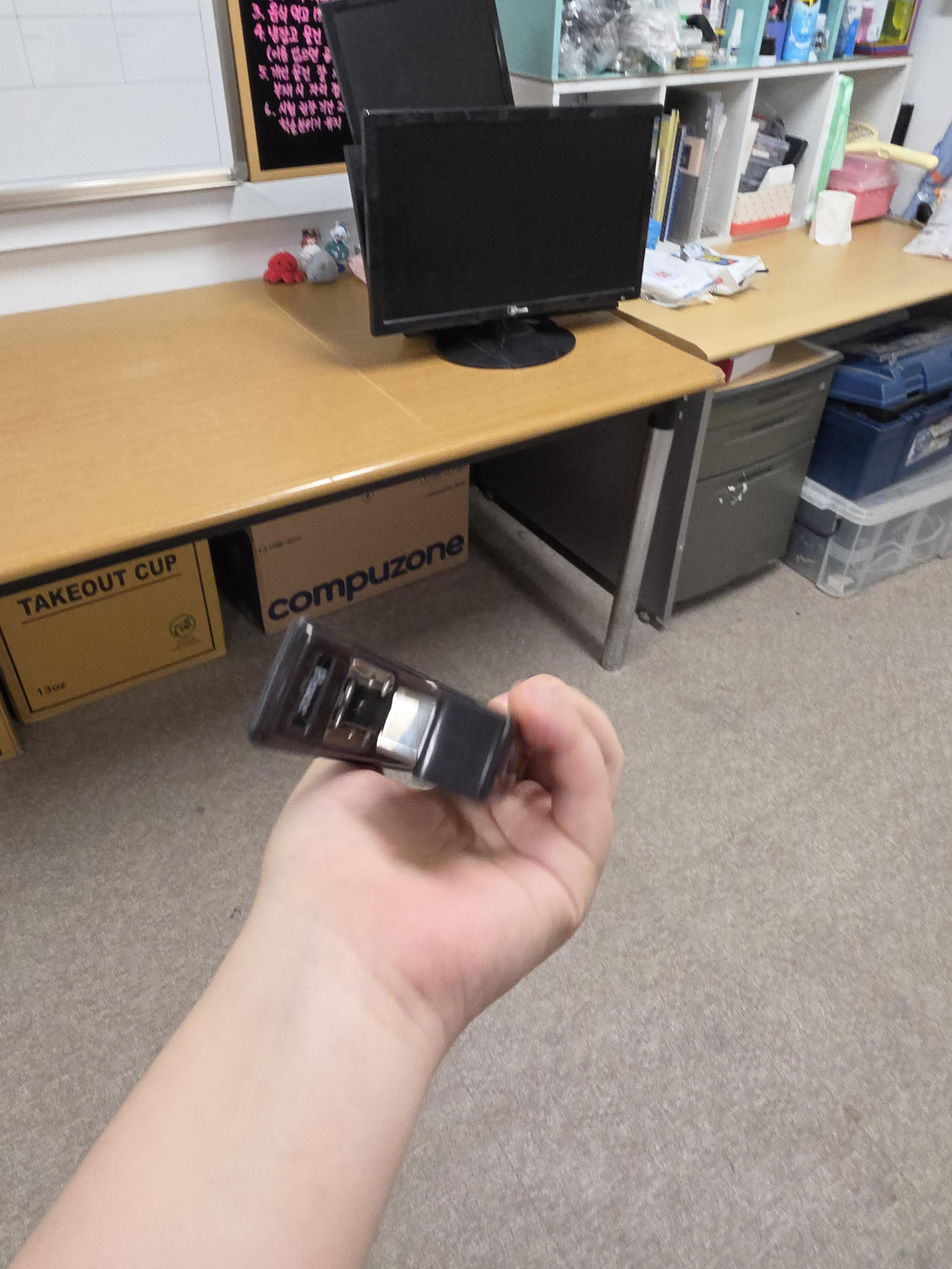stapler: (248, 614, 523, 802)
tissue: (729, 164, 795, 238), (809, 190, 856, 247)
